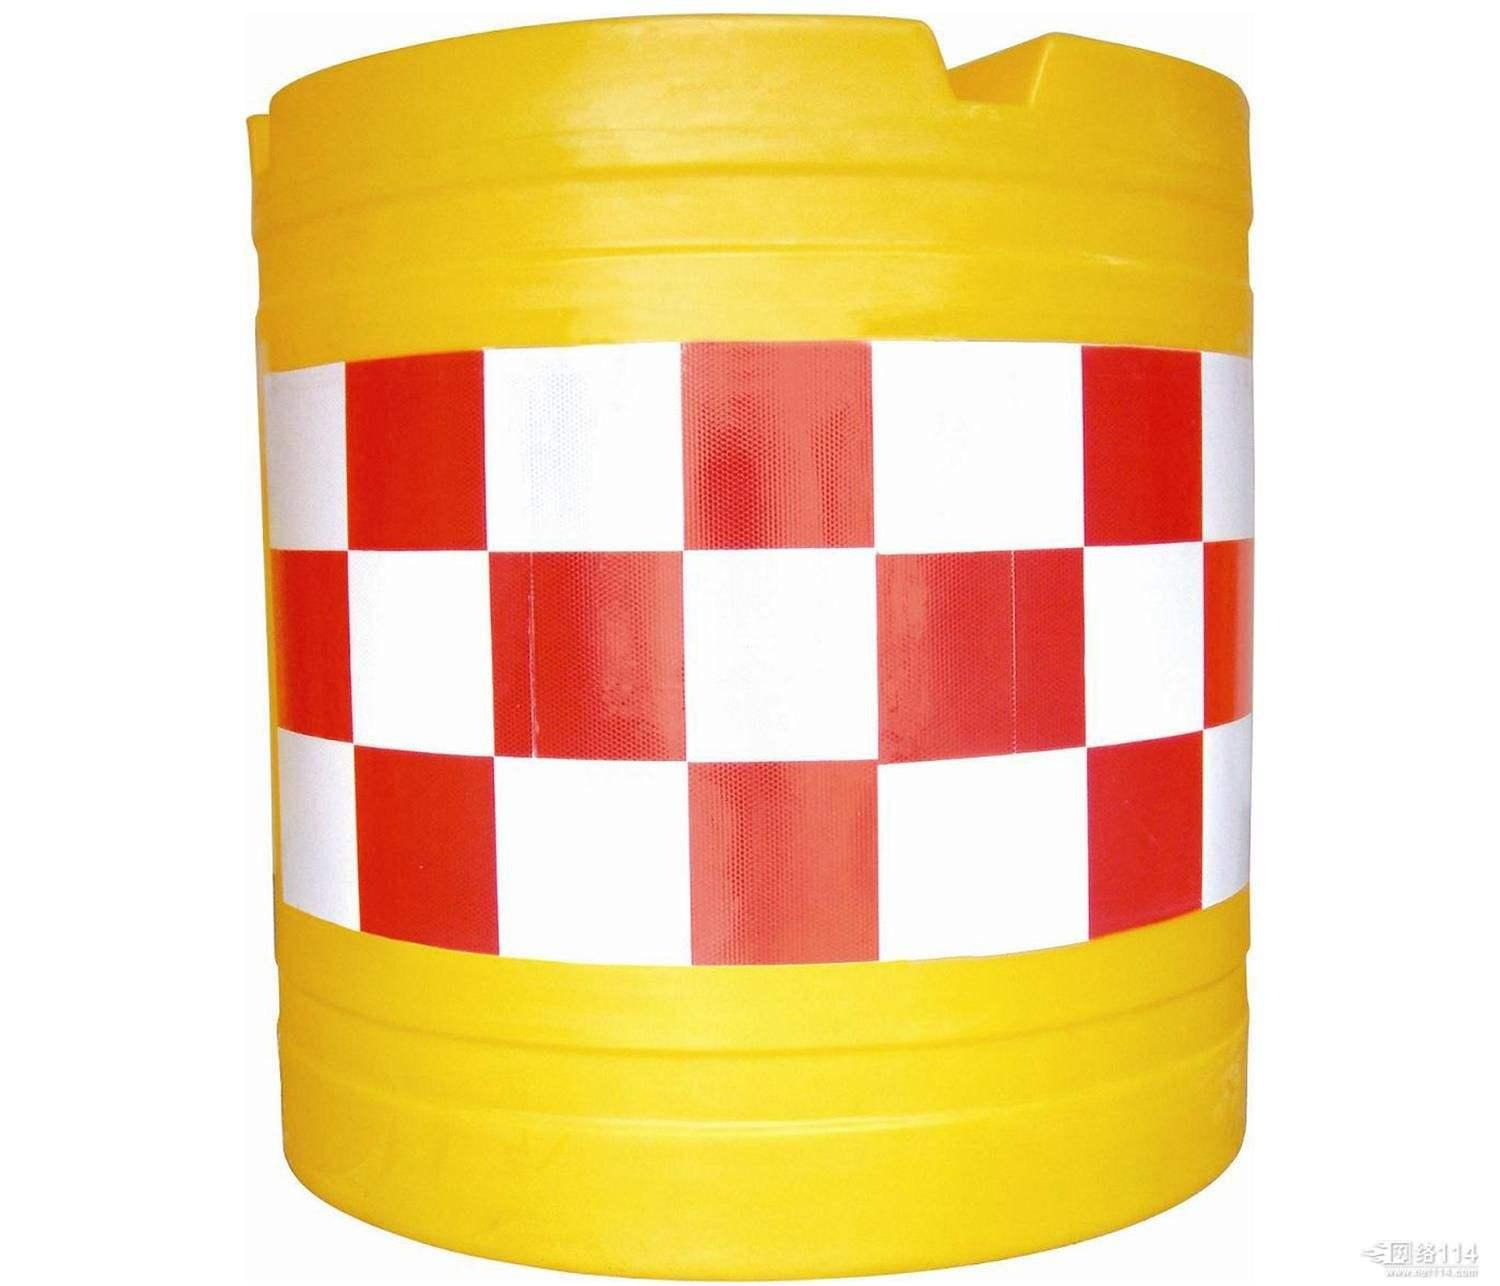sign: (171, 1, 1259, 1286)
